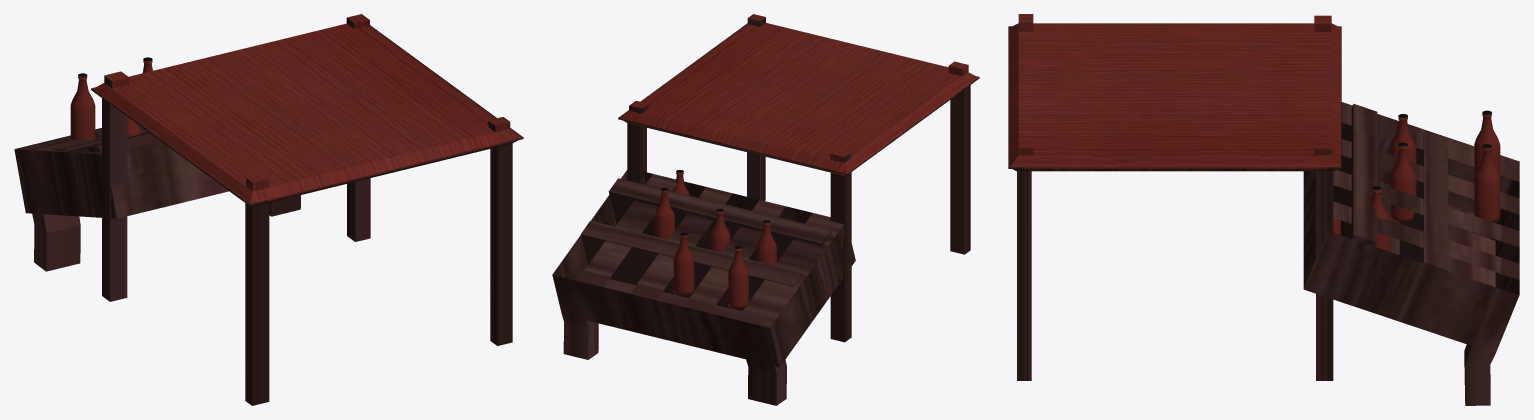
File: store.fbx
The picture shows the model from 3 angles, left to right: view 1: azimuth 30°, elevation 25°; view 2: azimuth 150°, elevation 25°; view 3: azimuth 270°, elevation 25°; orthographic projection. The views are drawn at different scales.
Visible parts, largest first — view 1: Plane, Circle.002; view 2: Plane, Circle.003, Circle.002, Circle.006, Circle.001, Circle; view 3: Plane, Circle.003, Circle, Circle.002, Circle.001, Circle.006.
Boxes of the visible parts, bbox=[...] form: Plane: bbox=[14, 14, 523, 405]; Circle.002: bbox=[70, 73, 95, 141]; Plane: bbox=[552, 14, 979, 405]; Circle.003: bbox=[673, 232, 694, 295]; Circle.002: bbox=[728, 246, 748, 309]; Circle.006: bbox=[654, 187, 674, 239]; Circle.001: bbox=[756, 220, 776, 265]; Circle: bbox=[709, 208, 730, 252]; Plane: bbox=[1008, 14, 1519, 405]; Circle.003: bbox=[1474, 144, 1500, 222]; Circle: bbox=[1390, 142, 1416, 222]; Circle.002: bbox=[1474, 110, 1500, 182]; Circle.001: bbox=[1390, 114, 1416, 187]; Circle.006: bbox=[1370, 186, 1389, 251].
Bounding box in the file's own units: 436 × 373 × 669.
